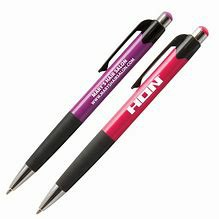pen: (38, 26, 206, 214), (9, 12, 170, 191)
